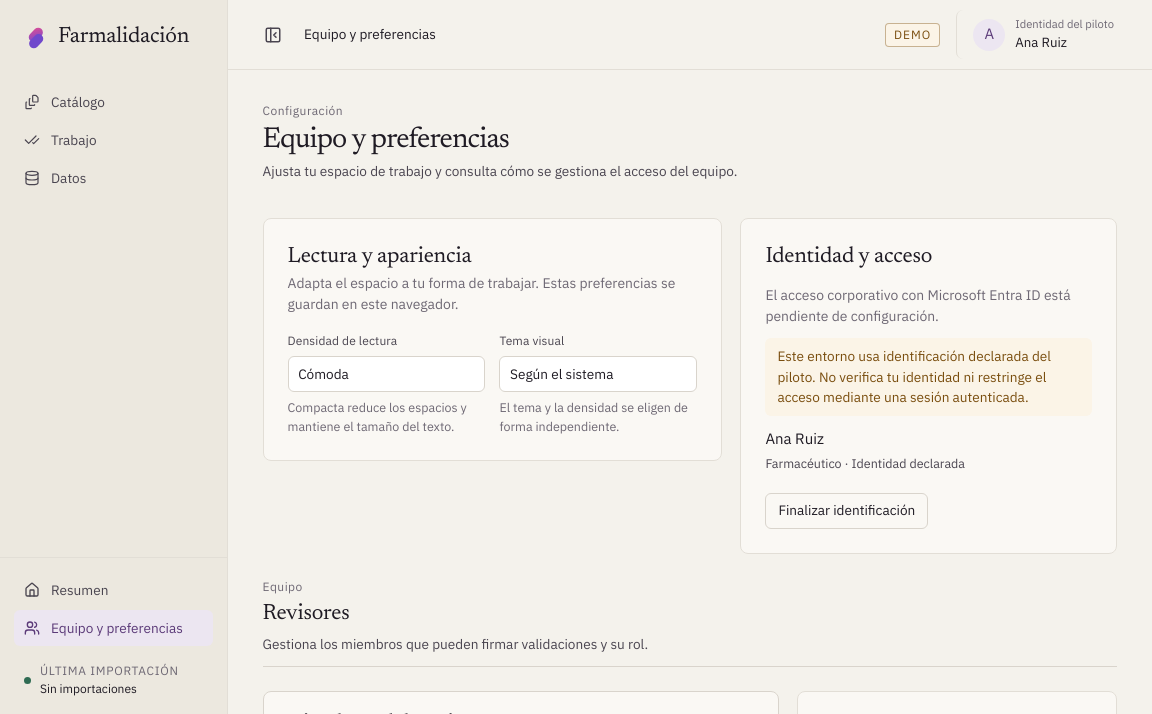
Recorrido de la vertical de revisión › finaliza la identificación declarada sin permitir cambios de identidad en cabecera
This screenshot has width=1152, height=714.
Expected: the button with aria-label "Identidad y acceso" shows "Ana Ruiz", left=956, top=10, right=1124, bottom=59
Expected: the dropdown labelled "Revisor del piloto" is not shown
Click the button "Finalizar identificación". click: (847, 511)
box: left=765, top=493, right=928, bottom=529
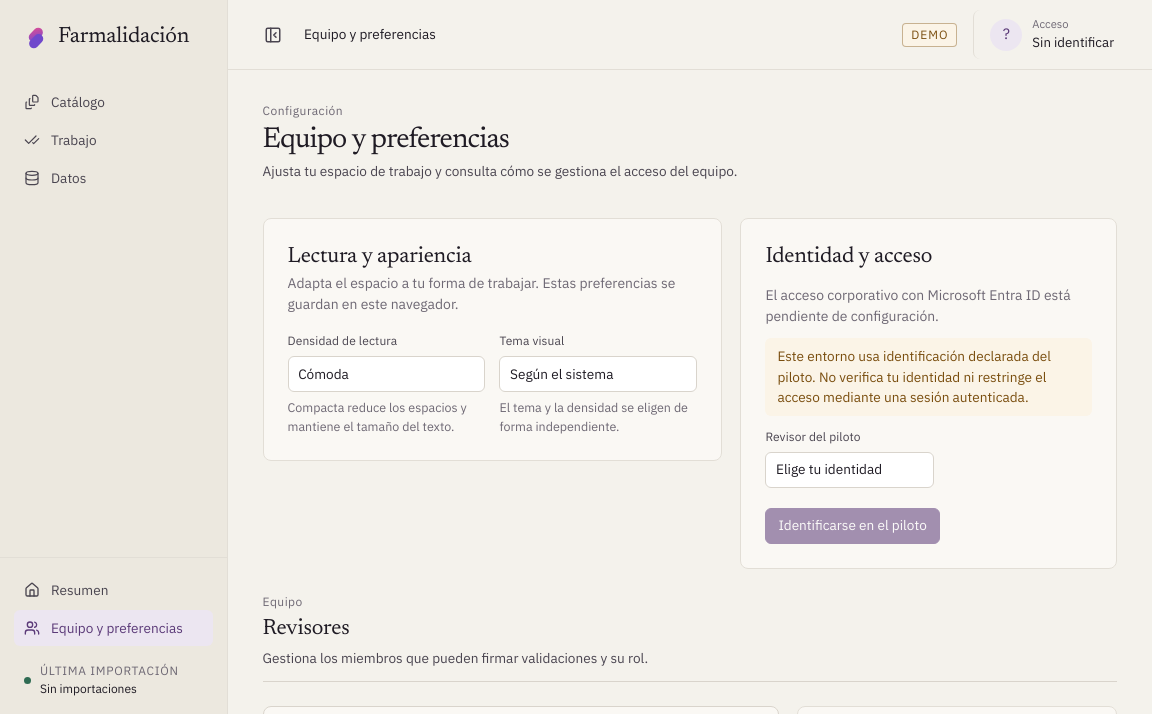
Now the button with aria-label "Identidad y acceso" shows "Sin identificar", box left=973, top=10, right=1124, bottom=59
Now the dropdown labelled "Revisor del piloto" is shown, box left=765, top=452, right=934, bottom=488
